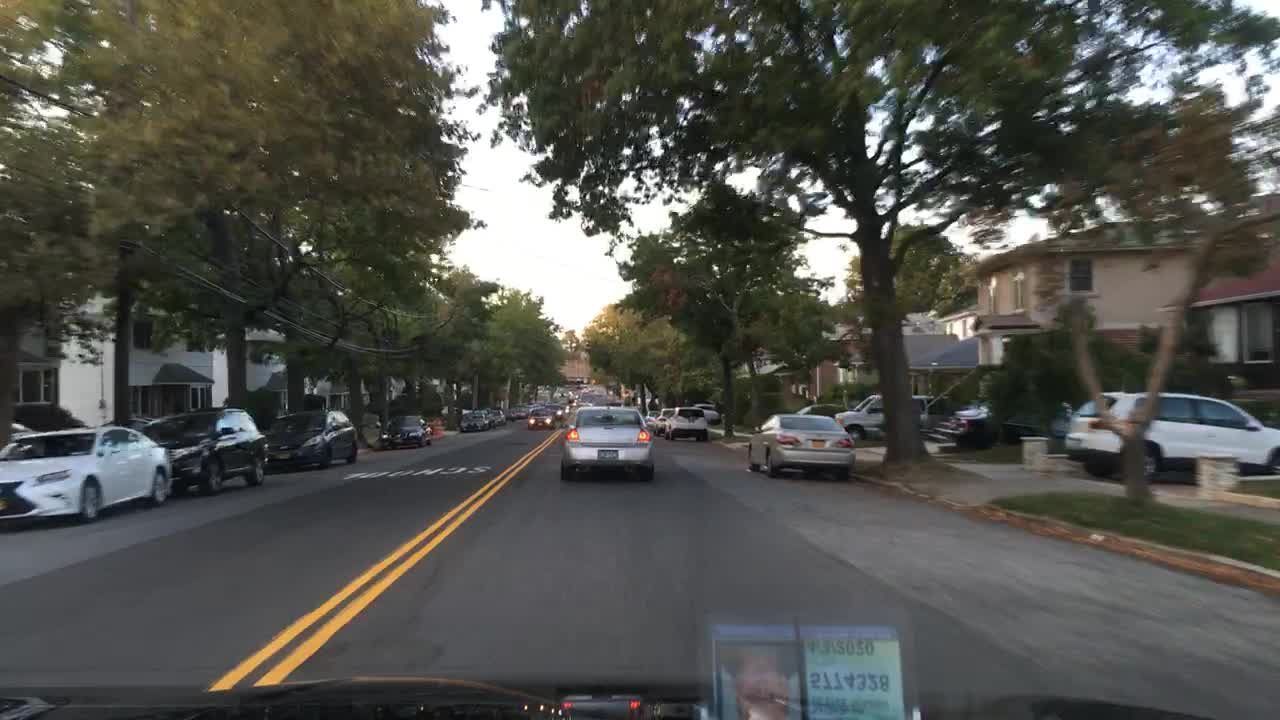car: (1060, 387, 1278, 488), (0, 428, 175, 523), (136, 406, 269, 495), (745, 412, 854, 481), (561, 404, 654, 477), (264, 410, 361, 471), (834, 392, 946, 443), (0, 403, 91, 456), (926, 404, 1002, 449), (377, 410, 431, 451), (667, 406, 710, 440), (798, 398, 854, 421), (656, 406, 676, 434), (458, 409, 483, 429), (526, 410, 553, 428), (695, 401, 717, 421), (539, 399, 562, 418), (646, 410, 662, 428), (481, 406, 495, 426), (548, 399, 570, 410), (490, 407, 504, 421), (504, 404, 517, 418), (523, 399, 536, 412), (562, 393, 576, 404), (514, 404, 525, 418)
